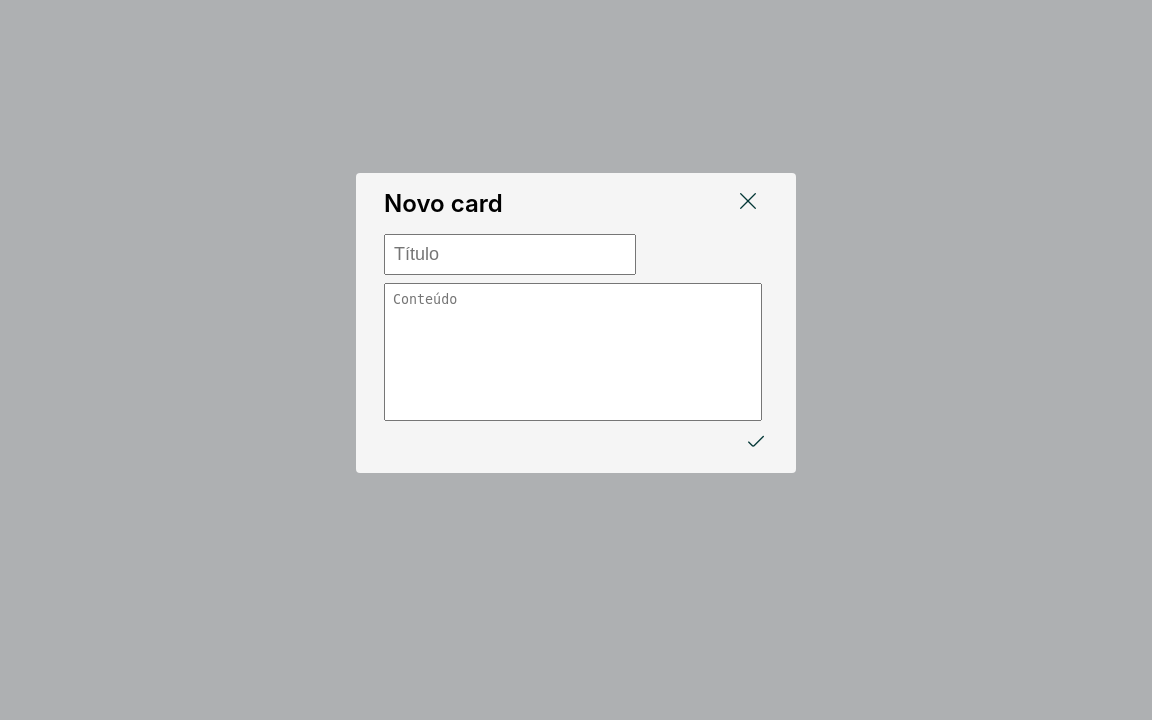
Test case: <NewCardModal /> › should display error message on confirm if any input is not set › title is missing
In the field with test id "title-input": (510, 254) [384,234,636,275], type "New card title"
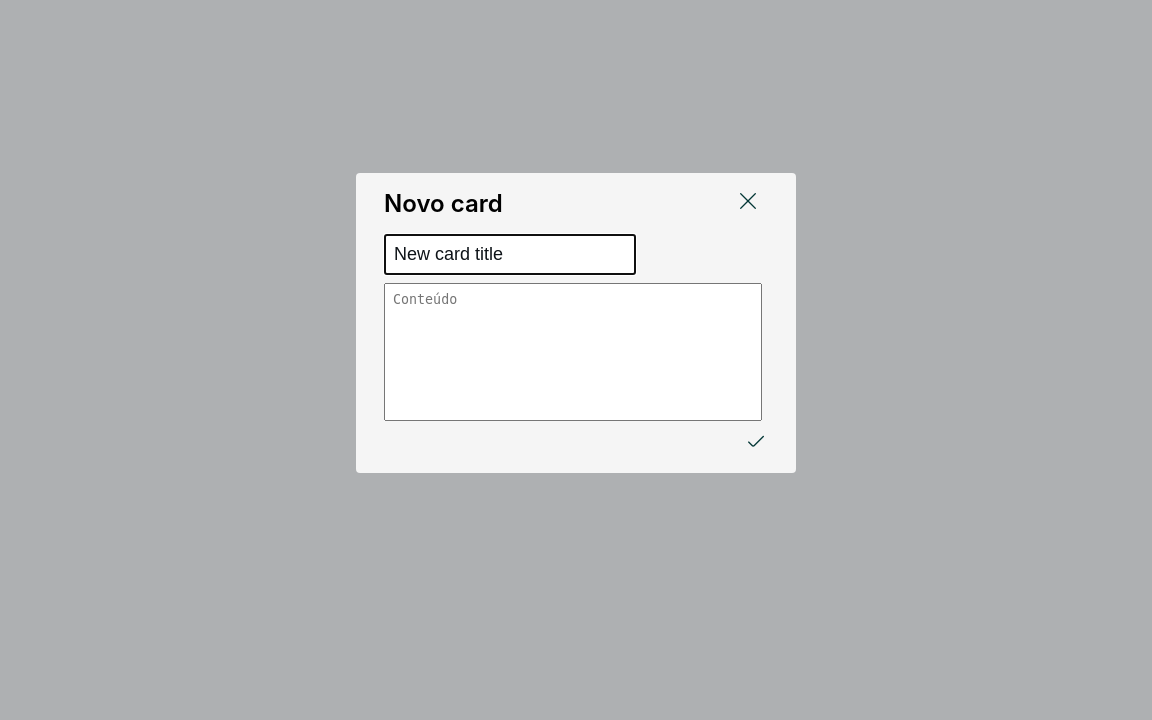
Click the button with test id "submit-button": (756, 443) [744,429,768,457]
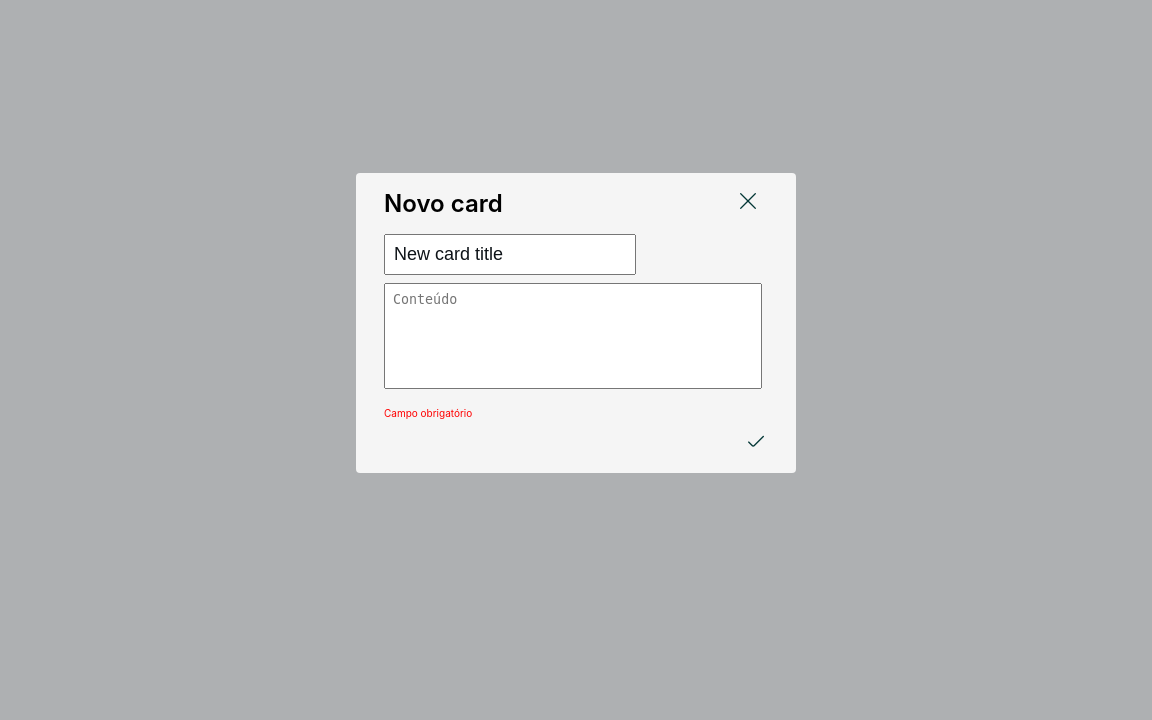
Expected: the text "Campo obrigatório" is shown, [376,407,472,419]
